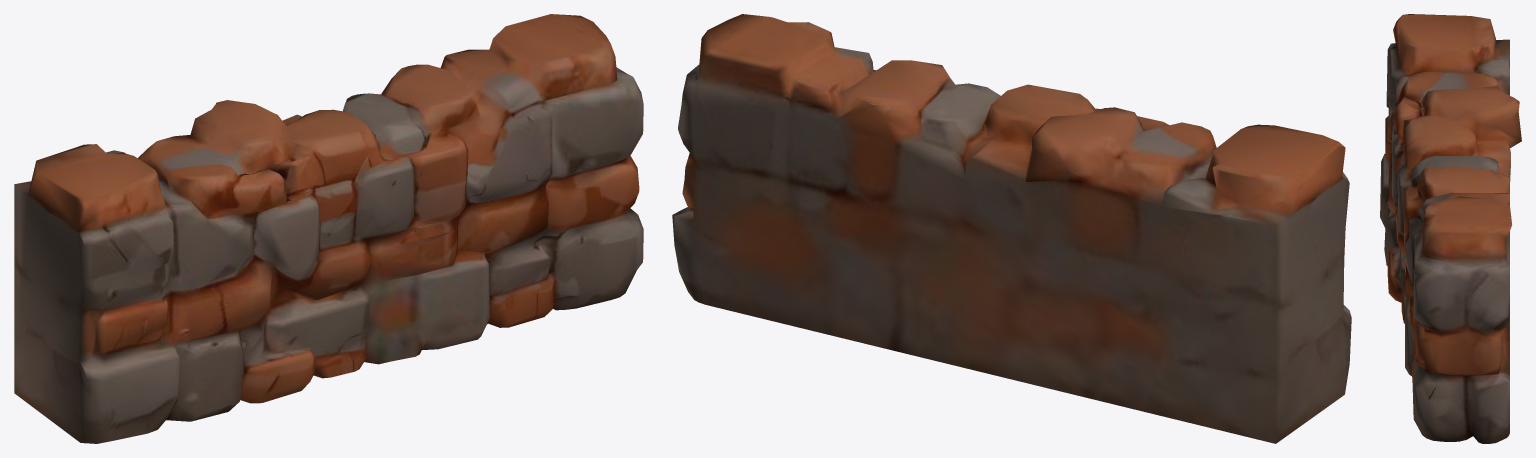
The model's file is rockwall.glb.
The picture shows the model from 3 angles, left to right: view 1: azimuth 30°, elevation 25°; view 2: azimuth 150°, elevation 25°; view 3: azimuth 270°, elevation 25°; orthographic projection. The views are drawn at different scales.
Visible parts, largest first — view 1: tripo_node_c6c0f18f-6ed9-4816-a3cc-311bc47272b2; view 2: tripo_node_c6c0f18f-6ed9-4816-a3cc-311bc47272b2; view 3: tripo_node_c6c0f18f-6ed9-4816-a3cc-311bc47272b2.
Boxes of the visible parts, x1=… form: tripo_node_c6c0f18f-6ed9-4816-a3cc-311bc47272b2: x1=14, y1=14, x2=643, y2=443; tripo_node_c6c0f18f-6ed9-4816-a3cc-311bc47272b2: x1=672, y1=14, x2=1351, y2=443; tripo_node_c6c0f18f-6ed9-4816-a3cc-311bc47272b2: x1=1380, y1=14, x2=1521, y2=443.
Size of the model in its own units: 0.998 by 0.4082 by 0.2559.
1 material, 1 textured.
